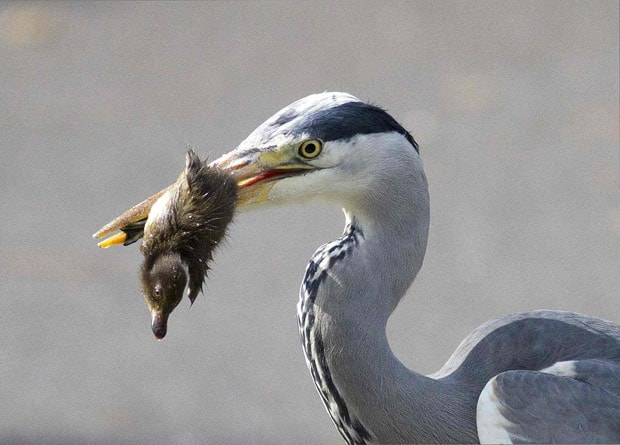heron: (90, 84, 615, 438)
